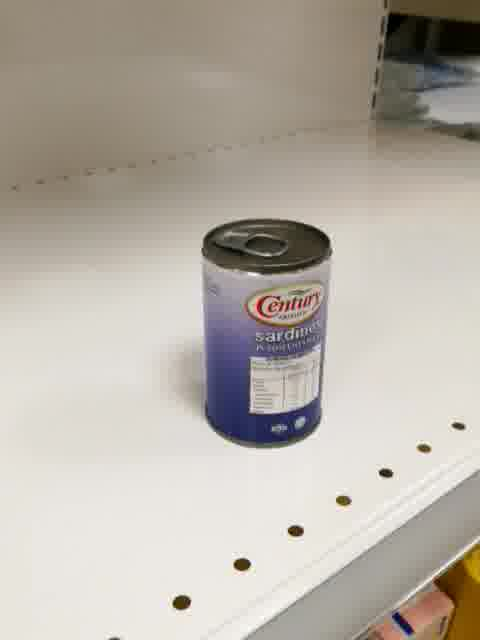sardine: (200, 217, 332, 451)
